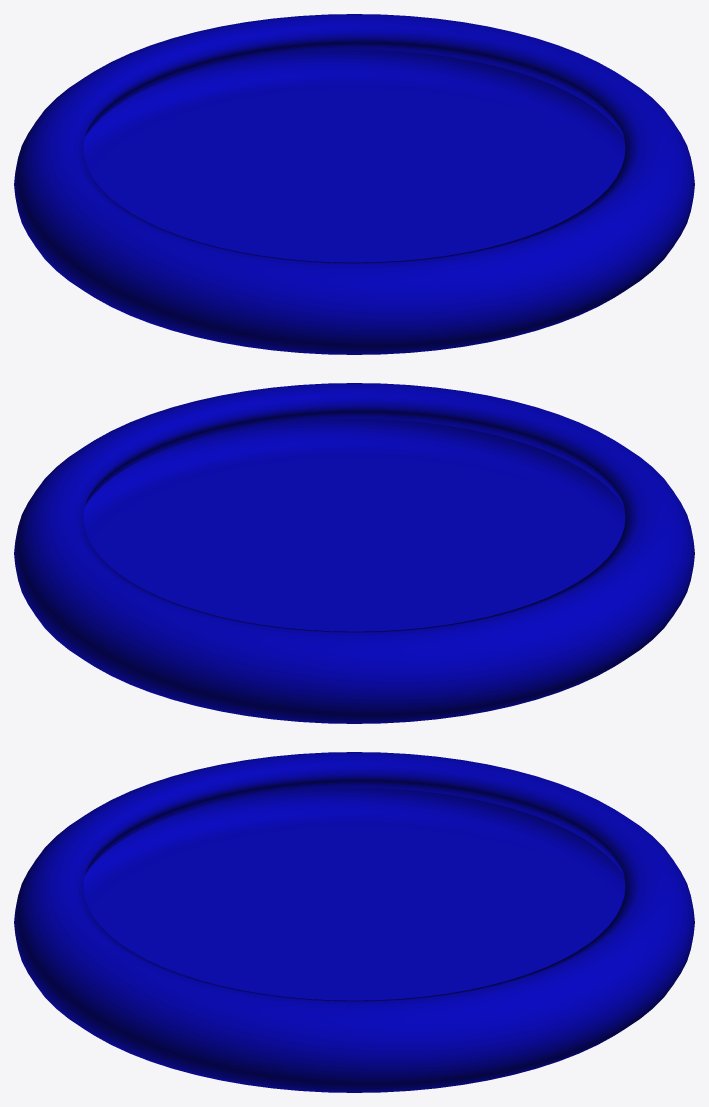
Rendered from plateau.gltf.
The picture shows the model from 3 angles, top to bottom: view 1: azimuth 30°, elevation 25°; view 2: azimuth 150°, elevation 25°; view 3: azimuth 270°, elevation 25°; orthographic projection.
Visible parts, largest first — view 1: plateau; view 2: plateau; view 3: plateau.
Part boxes in pixels (bbox=[...]): plateau: bbox=[14, 14, 694, 354]; plateau: bbox=[14, 383, 694, 723]; plateau: bbox=[14, 752, 694, 1092].
Bounding box in the file's own units: 17.82 × 2.39 × 17.82.
